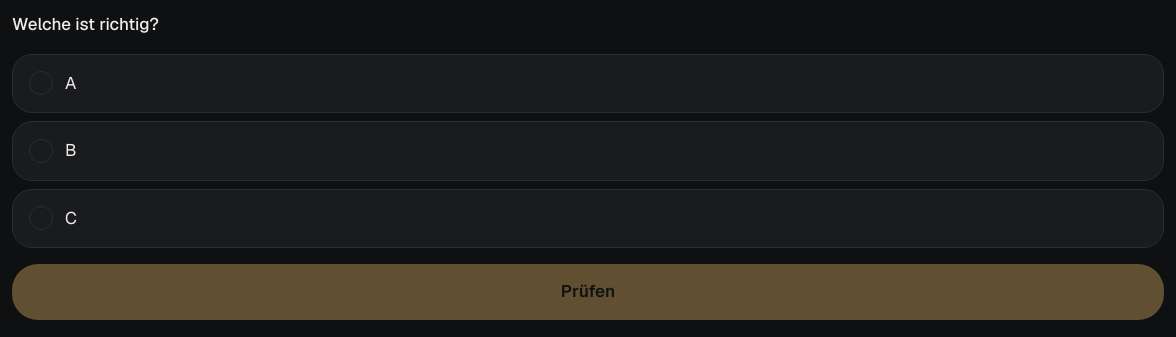
Test: McCard › reports richtig and shows explanation when the correct option is chosen
What coordinates should you click on to do the following:
click the button "B"
I would click on:
 (41, 151)
Its box is left=12, top=121, right=1164, bottom=180.
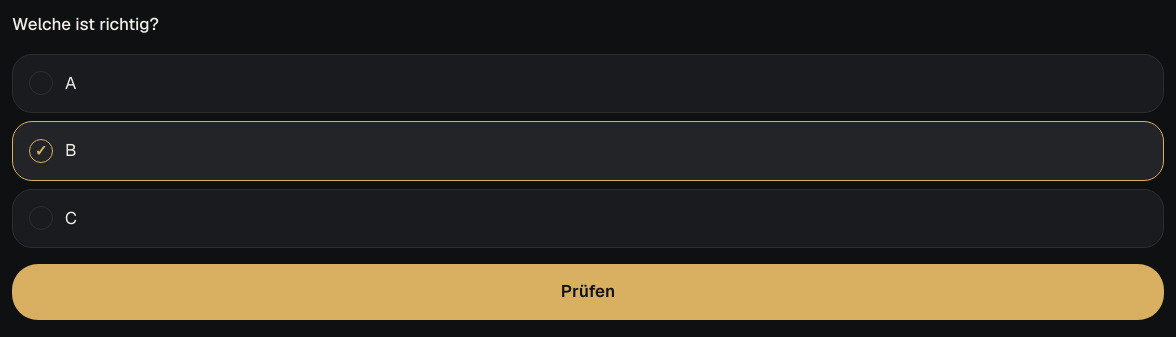
What coordinates should you click on to do the following:
click the button "Prüfen"
I would click on:
 (588, 292)
Its box is left=12, top=264, right=1164, bottom=320.
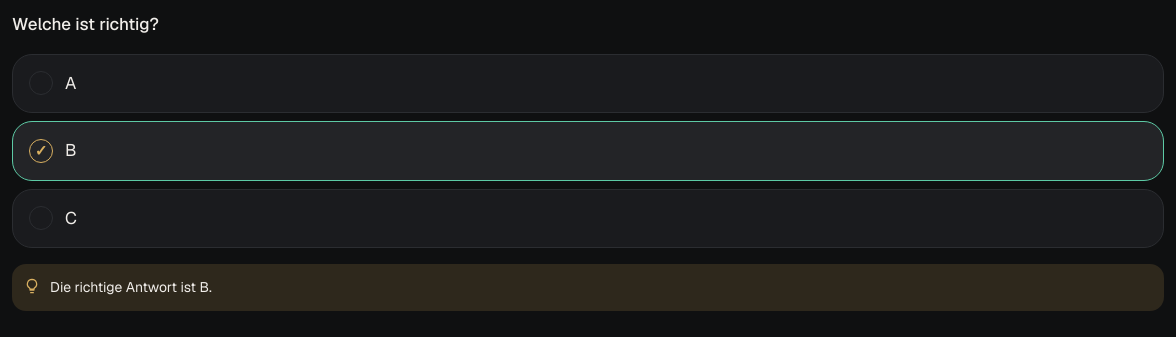
Expected: the text "Die richtige Antwort ist B." is shown, left=50, top=276, right=212, bottom=299
